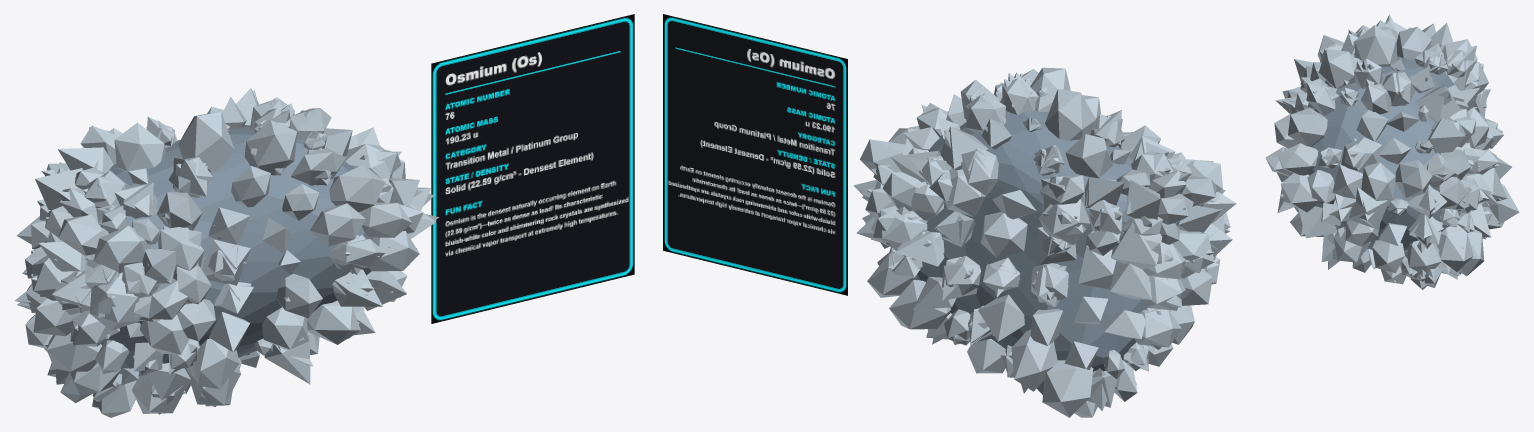
File: osmium.glb
3 renders of one model, left to right at view 1: azimuth 30°, elevation 25°; view 2: azimuth 150°, elevation 25°; view 3: azimuth 270°, elevation 25°, orthographic. The views are drawn at different scales.
Parts seen in each view (by area): view 1: Mesh_4, Mesh_0, Mesh_1.126, Mesh_1.164, Mesh_1.170, Mesh_1.007, Mesh_1.046, Mesh_1.050, Mesh_1.187, Mesh_1.036, Mesh_1.060, Mesh_1.193 (+48 smaller); view 2: Mesh_4, Mesh_0, Mesh_1.134, Mesh_1.126, Mesh_1.162, Mesh_1.012, Mesh_1.218, Mesh_1.170, Mesh_2.042, Mesh_2.349, Mesh_1.142, Mesh_1.171 (+48 smaller); view 3: Mesh_0, Mesh_1.126, Mesh_1, Mesh_1.007, Mesh_1.164, Mesh_1.100, Mesh_1.177, Mesh_1.084, Mesh_1.015, Mesh_2.274, Mesh_1.170, Mesh_2.241 (+56 smaller).
Boxes of the visible parts, x1=… form: Mesh_4: x1=431, y1=14, x2=634, y2=323; Mesh_0: x1=82, y1=127, x2=373, y2=375; Mesh_1.126: x1=178, y1=111, x2=234, y2=171; Mesh_1.164: x1=244, y1=120, x2=297, y2=175; Mesh_1.170: x1=114, y1=122, x2=165, y2=173; Mesh_1.007: x1=329, y1=164, x2=385, y2=212; Mesh_1.046: x1=93, y1=225, x2=150, y2=273; Mesh_1.050: x1=193, y1=338, x2=239, y2=389; Mesh_1.187: x1=306, y1=300, x2=360, y2=344; Mesh_1.036: x1=89, y1=272, x2=140, y2=330; Mesh_1.060: x1=310, y1=203, x2=365, y2=246; Mesh_1.193: x1=262, y1=307, x2=309, y2=349; Mesh_4: x1=663, y1=14, x2=847, y2=295; Mesh_0: x1=903, y1=109, x2=1177, y2=371; Mesh_1.134: x1=1042, y1=360, x2=1093, y2=417; Mesh_1.126: x1=1045, y1=89, x2=1095, y2=140; Mesh_1.162: x1=1011, y1=329, x2=1057, y2=391; Mesh_1.012: x1=980, y1=212, x2=1027, y2=257; Mesh_1.218: x1=889, y1=280, x2=951, y2=329; Mesh_1.170: x1=1065, y1=134, x2=1112, y2=178; Mesh_2.042: x1=978, y1=294, x2=1024, y2=341; Mesh_2.349: x1=1111, y1=222, x2=1162, y2=269; Mesh_1.142: x1=1039, y1=199, x2=1090, y2=245; Mesh_1.171: x1=1134, y1=309, x2=1181, y2=347; Mesh_0: x1=1308, y1=56, x2=1475, y2=251; Mesh_1.126: x1=1354, y1=25, x2=1397, y2=66; Mesh_1: x1=1436, y1=225, x2=1473, y2=271; Mesh_1.007: x1=1288, y1=108, x2=1327, y2=146; Mesh_1.164: x1=1318, y1=49, x2=1356, y2=88; Mesh_1.100: x1=1361, y1=162, x2=1395, y2=200; Mesh_1.177: x1=1395, y1=160, x2=1432, y2=197; Mesh_1.084: x1=1281, y1=173, x2=1319, y2=212; Mesh_1.015: x1=1277, y1=143, x2=1318, y2=175; Mesh_2.274: x1=1415, y1=85, x2=1460, y2=122; Mesh_1.170: x1=1396, y1=26, x2=1431, y2=60; Mesh_2.241: x1=1427, y1=117, x2=1465, y2=153.
Bounding box in the file's own units: 3.4 × 1.7 × 1.55.
3 materials, 1 textured.
